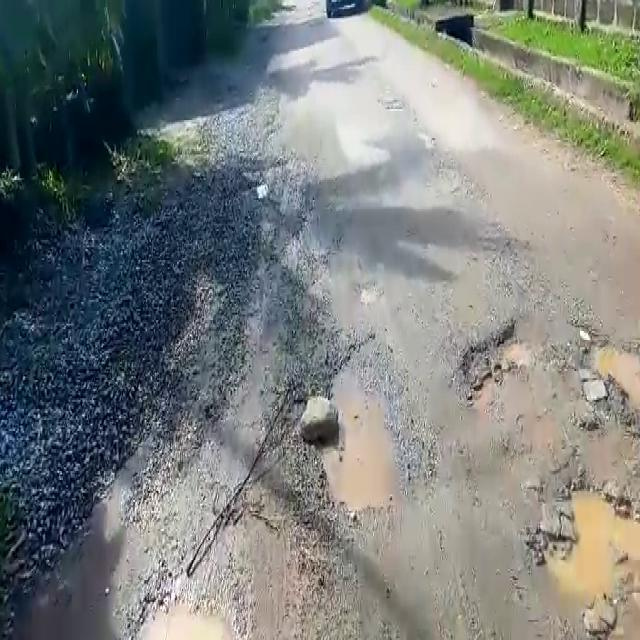pothole: (524, 476, 640, 635), (296, 380, 422, 522), (461, 319, 544, 411), (573, 323, 640, 431), (133, 589, 252, 640)
